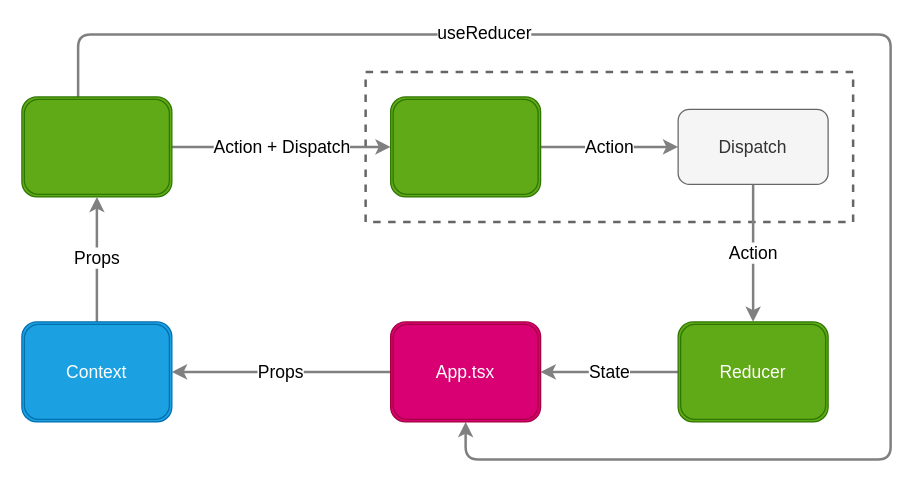
Image size: 924x491. Some labels were removed from this diagram. Each missing label, with the box of its shape:
ActionCreator: (389, 96, 541, 197)
Component: (21, 96, 172, 197)
